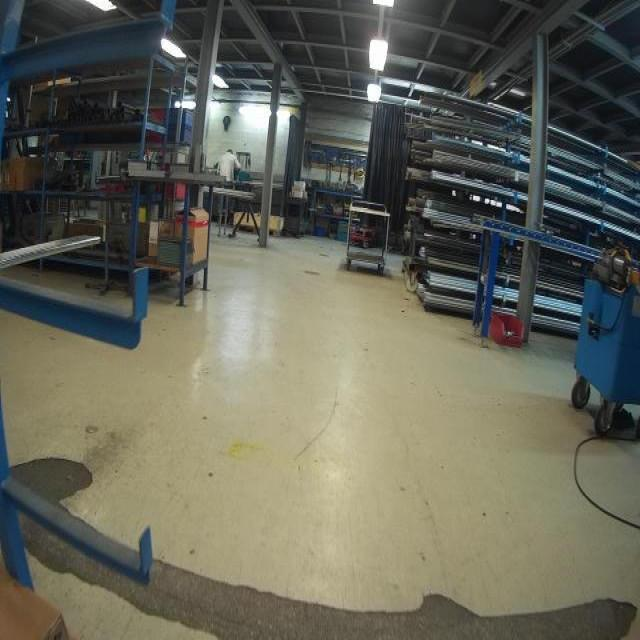pallet: (232, 224, 284, 239)
